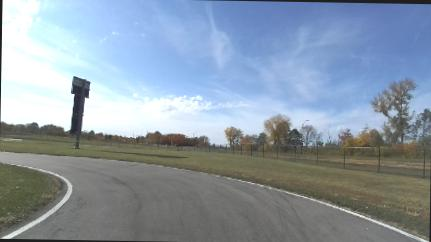Grass: (0, 141, 430, 237), (0, 163, 60, 231)
Lane: (0, 153, 417, 241)
